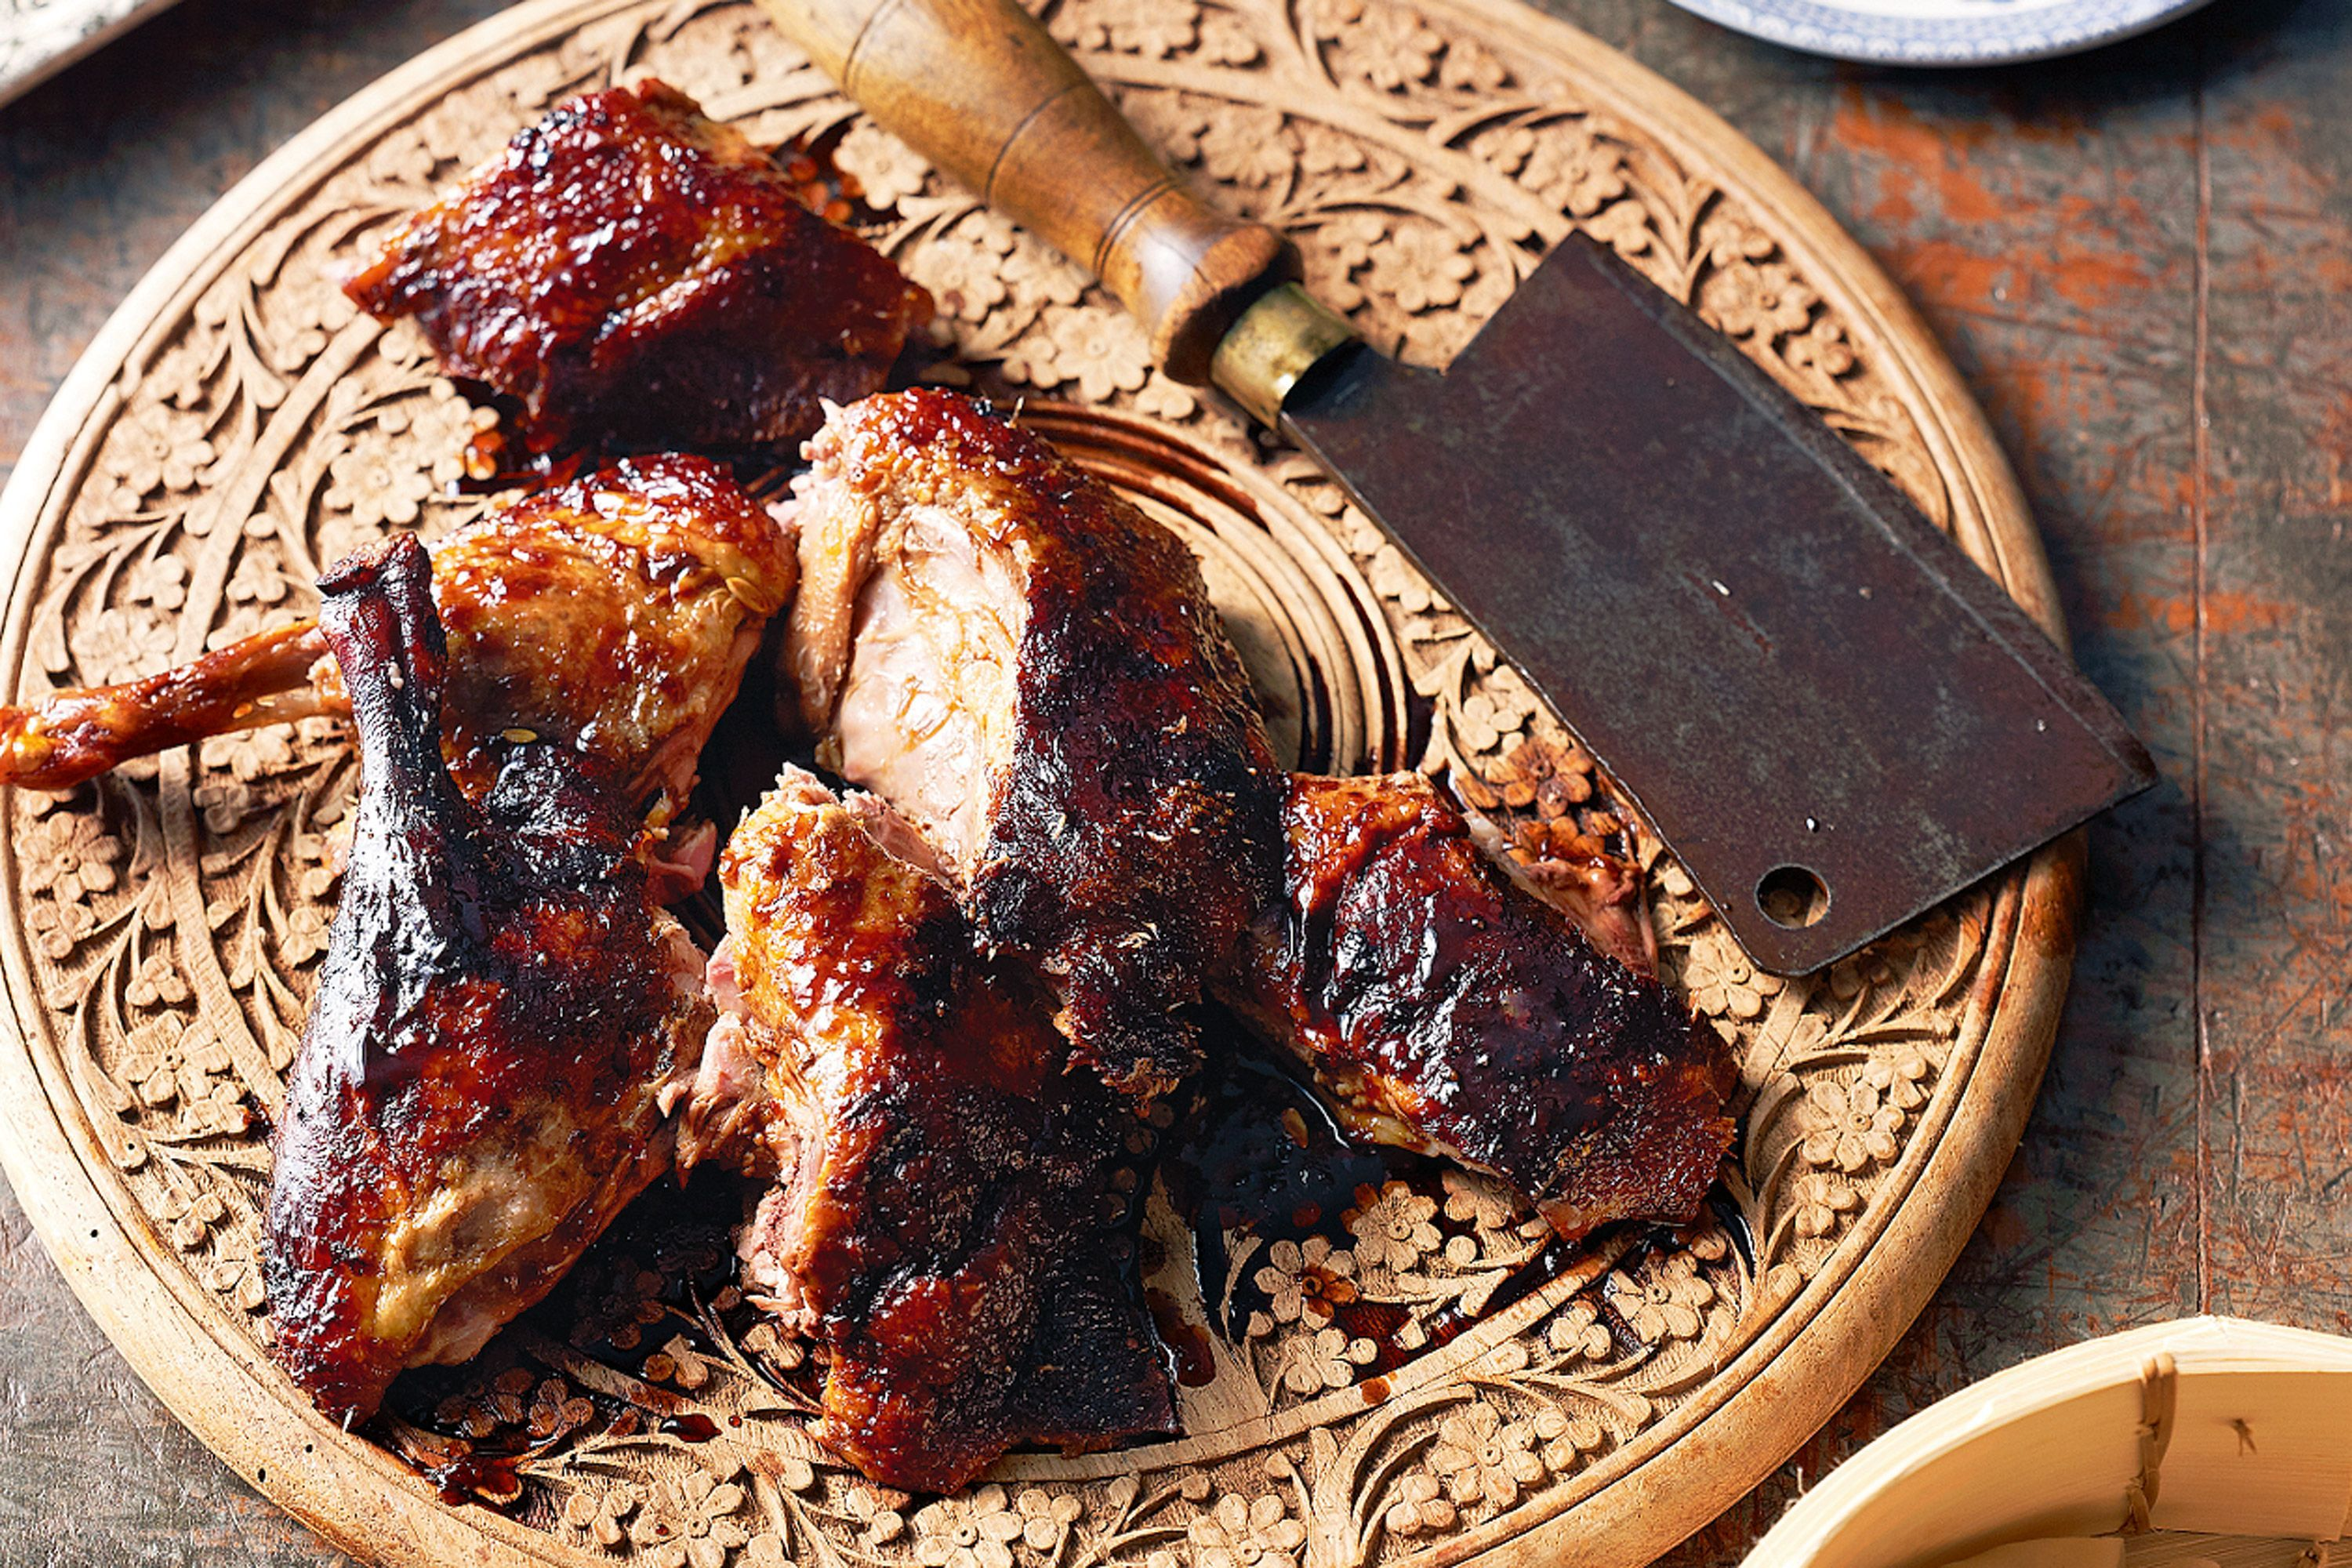peking_duck: (7, 58, 1885, 1529)
